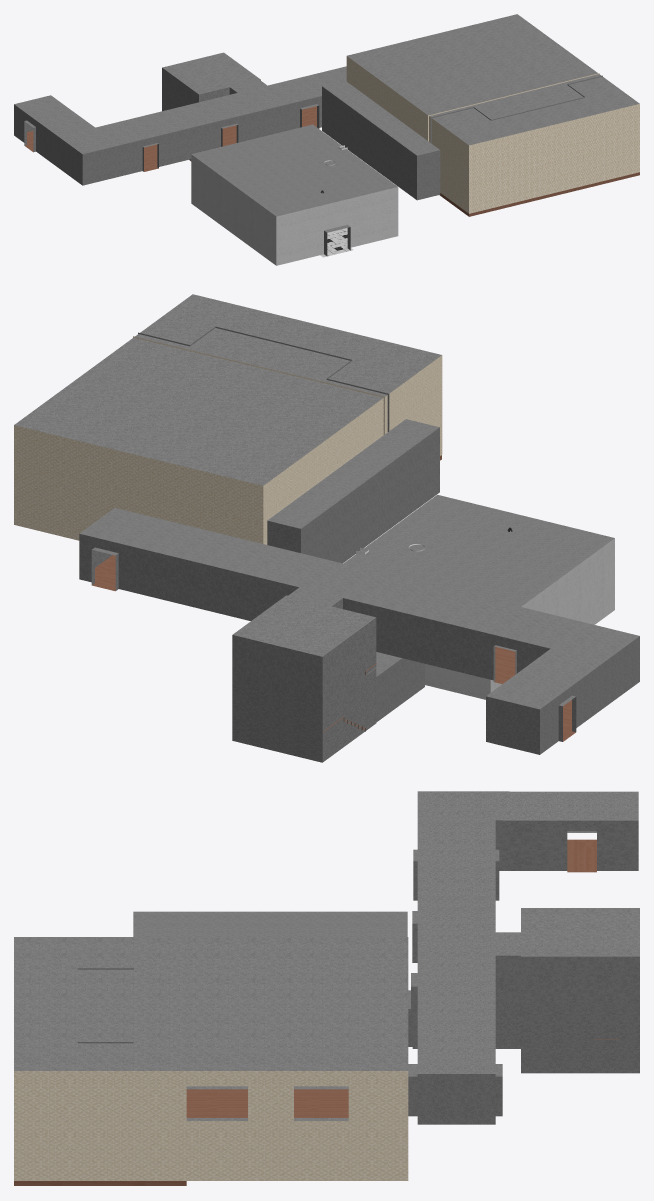
The model's file is theater.glb.
3 renders of one model, top to bottom at view 1: azimuth 30°, elevation 25°; view 2: azimuth 150°, elevation 25°; view 3: azimuth 270°, elevation 25°, orthographic. The views are drawn at different scales.
Visible parts, largest first — view 1: 2floor, 1floor, wall-broken, scene; view 2: 2floor, 1floor, wall-broken, scene; view 3: 2floor, 1floor.
Part boxes in pixels (x1,y1,x2,y2): 2floor: (14, 14, 639, 216); 1floor: (162, 99, 398, 265); wall-broken: (322, 56, 468, 213); scene: (428, 73, 602, 143); 2floor: (14, 294, 639, 754); 1floor: (232, 495, 614, 762); wall-broken: (263, 355, 442, 563); scene: (133, 326, 389, 434); 2floor: (14, 791, 639, 1185); 1floor: (133, 911, 639, 1073).
Size of what is drawn, in the model's own units: 22.96 by 5.57 by 17.64.
11 materials, 8 textured.
